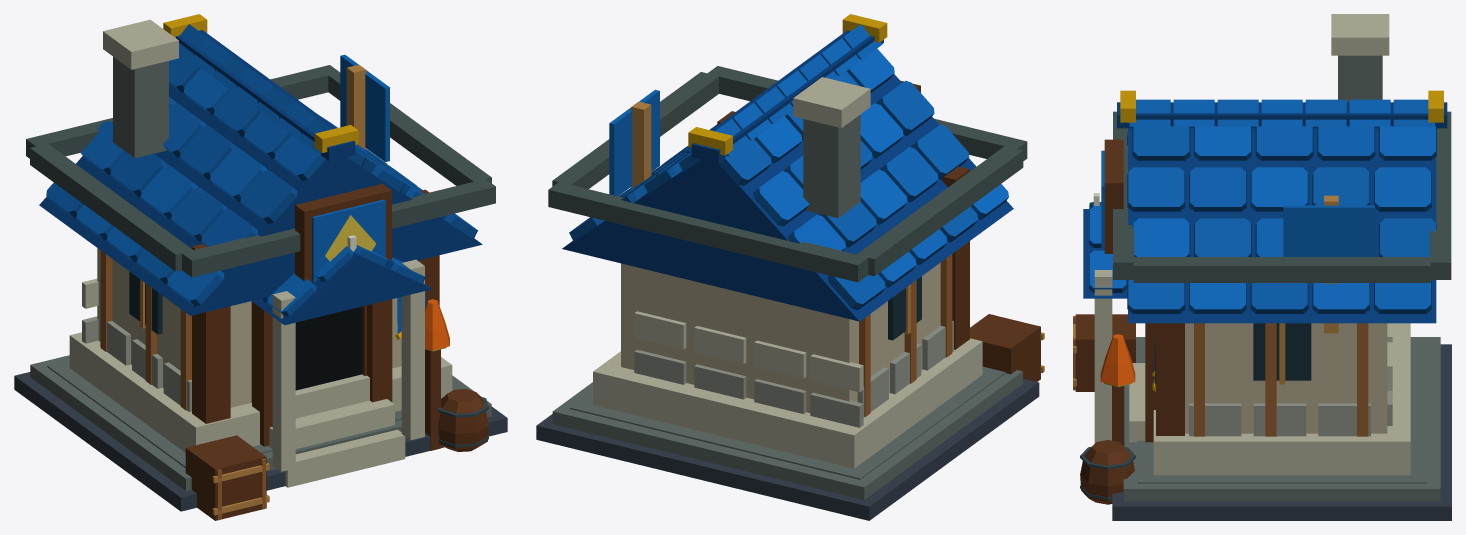
File: barracks_l3.fbx
3 renders of one model, left to right at view 1: azimuth 30°, elevation 25°; view 2: azimuth 150°, elevation 25°; view 3: azimuth 270°, elevation 25°, orthographic.
Visible parts, largest first — view 1: barracks_l3; view 2: barracks_l3; view 3: barracks_l3.
Part boxes in pixels (bbox=[...]): barracks_l3: bbox=[14, 14, 507, 520]; barracks_l3: bbox=[536, 14, 1044, 520]; barracks_l3: bbox=[1073, 14, 1451, 520].
Size of the model in its own units: 1.72 by 1.84 by 1.7.
